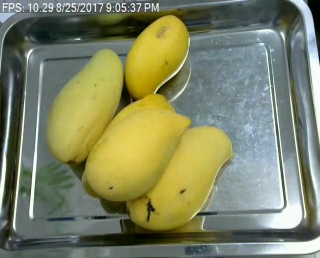Mango: (119, 120, 235, 229), (85, 107, 191, 201), (45, 48, 122, 162), (123, 12, 191, 101)
